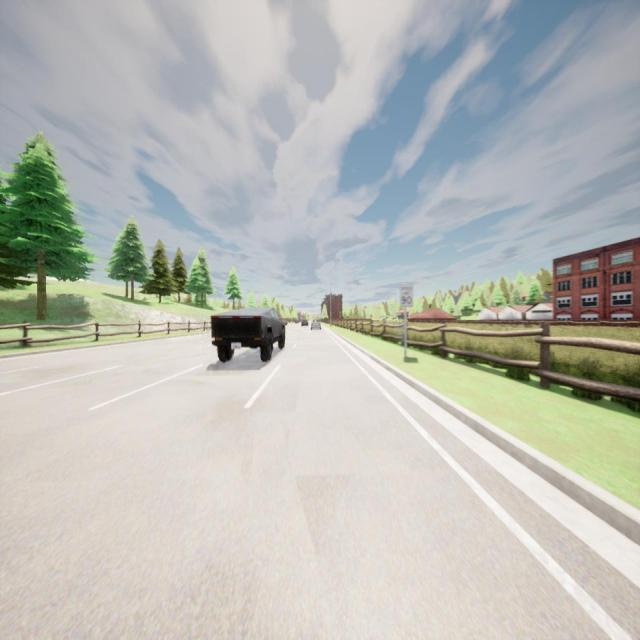Traffic_Signs: (399, 284, 414, 312)
Vehicle: (211, 307, 285, 362), (310, 318, 322, 329), (301, 317, 309, 328)
